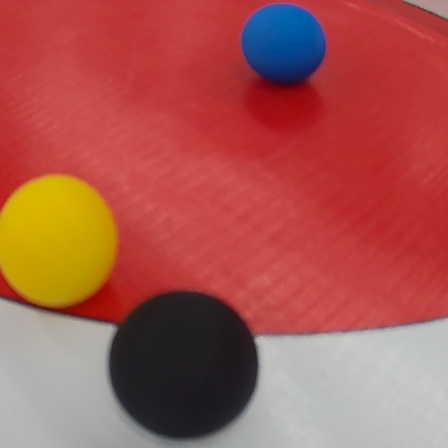black: (102, 288, 261, 438)
blue: (240, 4, 328, 84)
red_base: (0, 0, 448, 333)
yellow: (1, 173, 118, 310)
